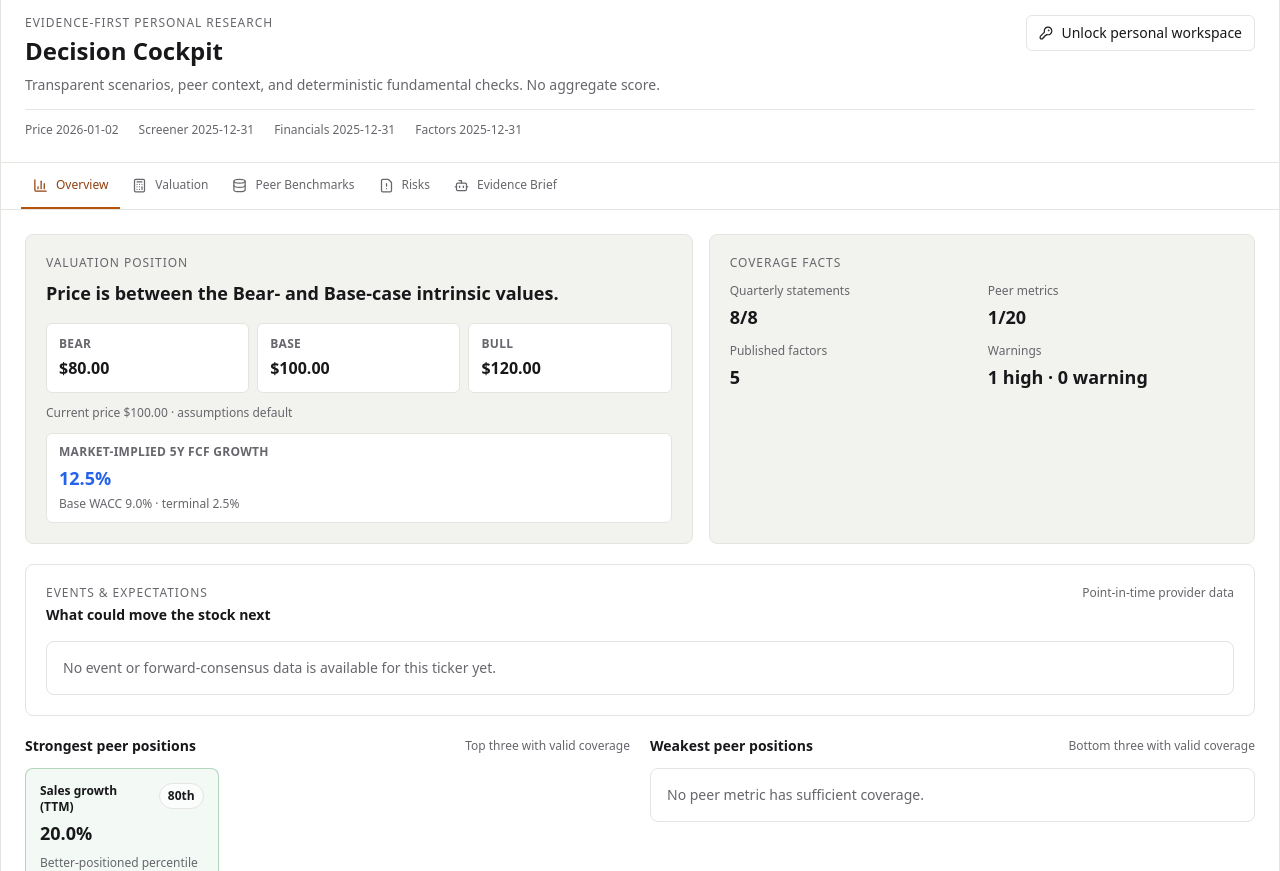
Test: DecisionCockpit › pauses the evidence brief while calculated scenarios are unsaved
Click the button "Valuation" at [170, 186], box top-left (120, 163), bottom-right (220, 209)
(page scrolled)
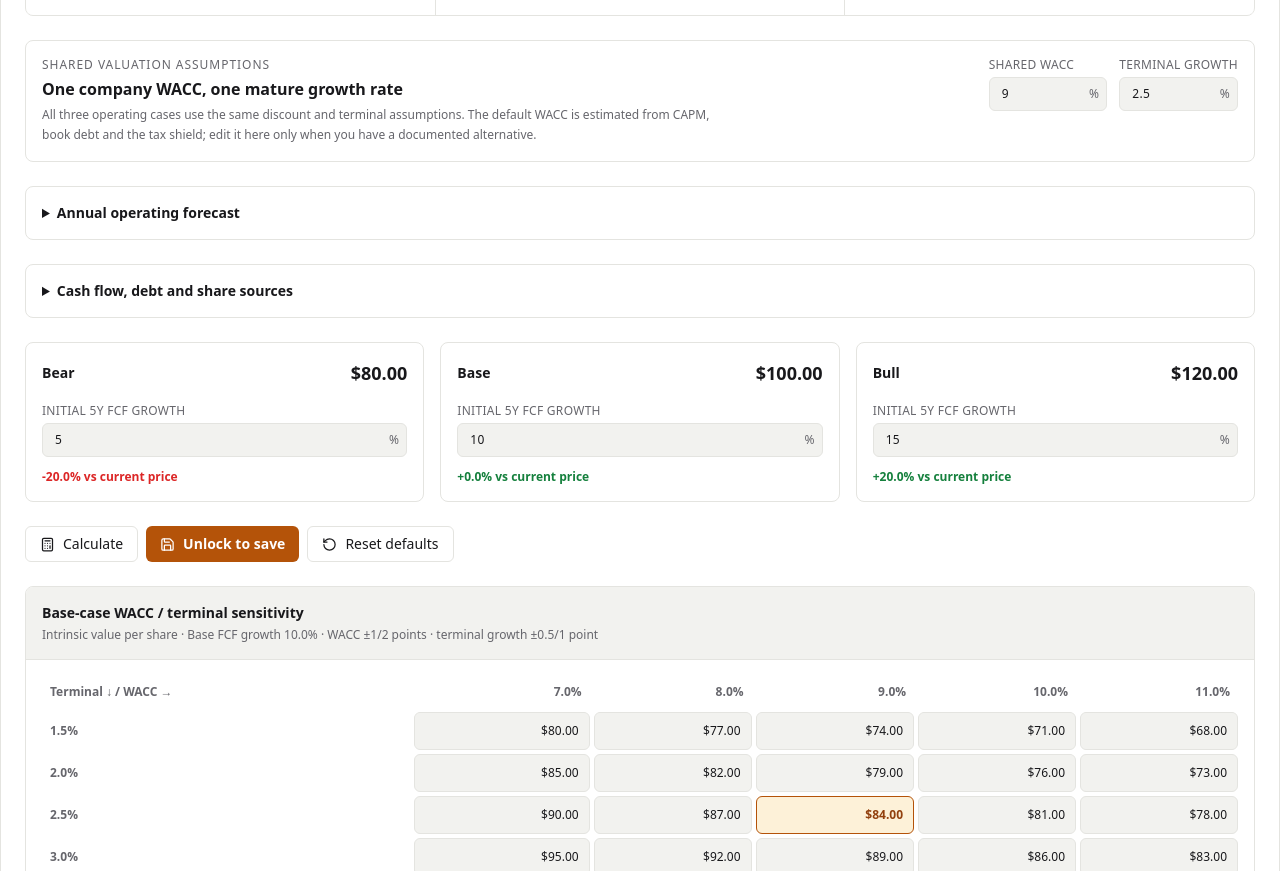
Replace the text in the number field named "bear FCF growth" with "6" at [225, 440], box top-left (42, 423), bottom-right (407, 457)
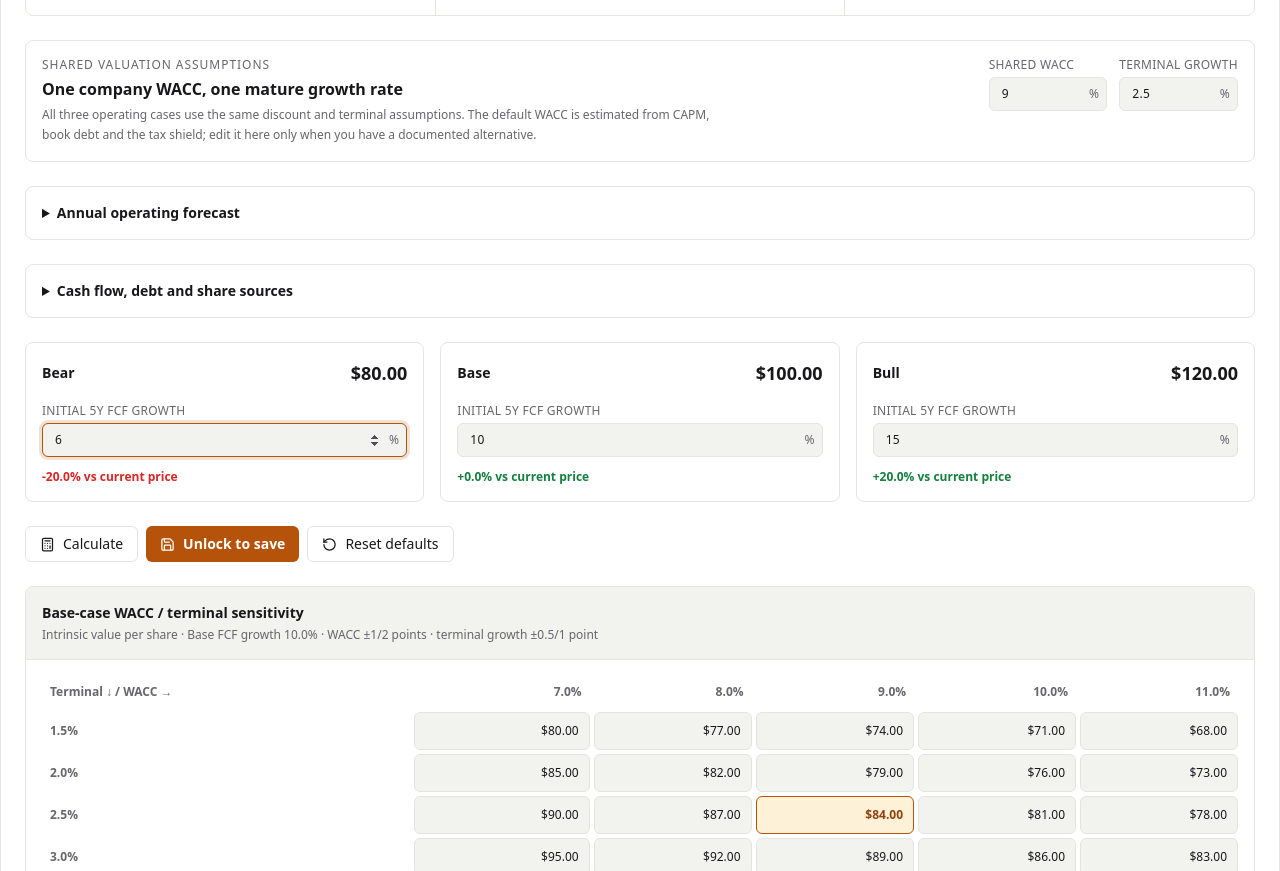
Click the button "Calculate" at [82, 544], box top-left (25, 526), bottom-right (138, 562)
(page scrolled)
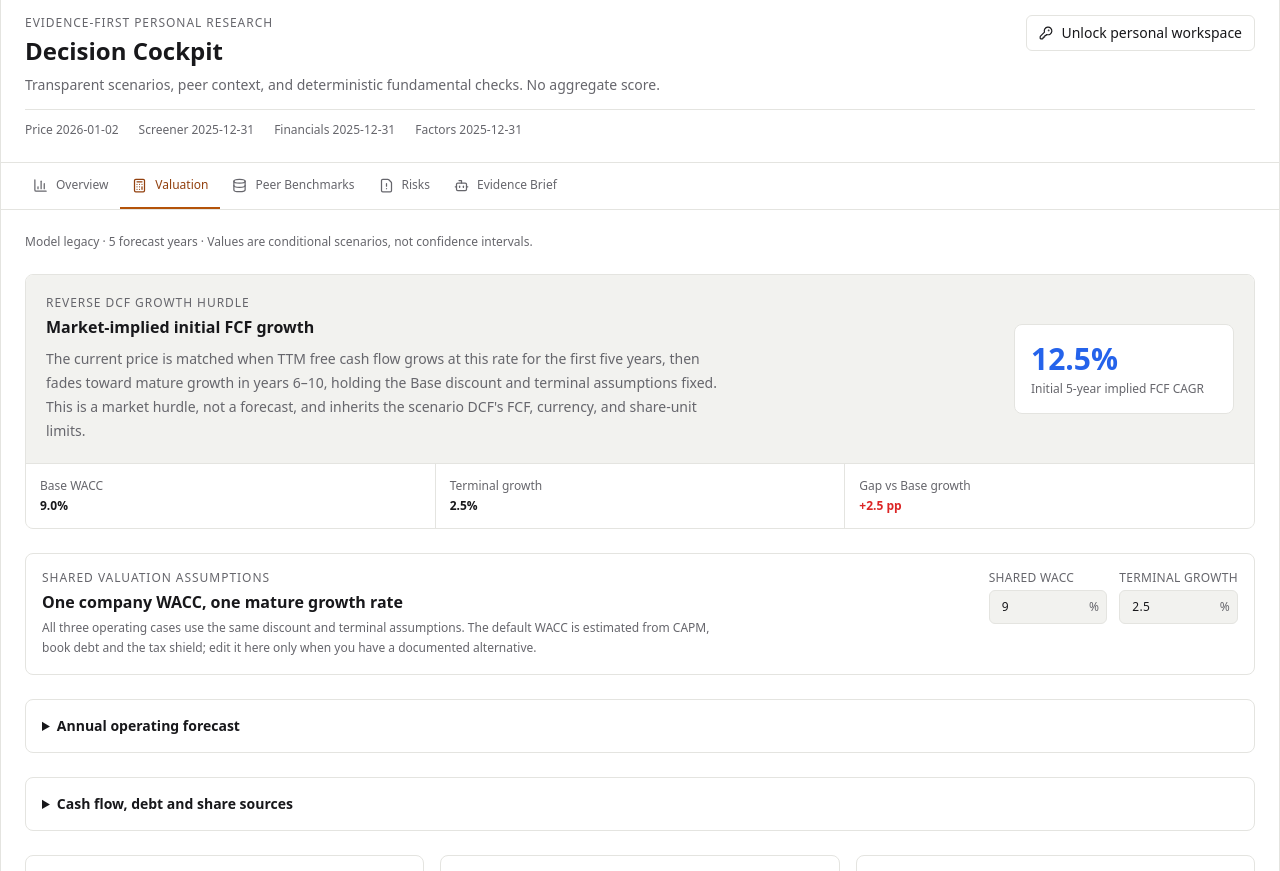
Click the button "Evidence Brief" at [505, 186], box top-left (442, 163), bottom-right (569, 209)
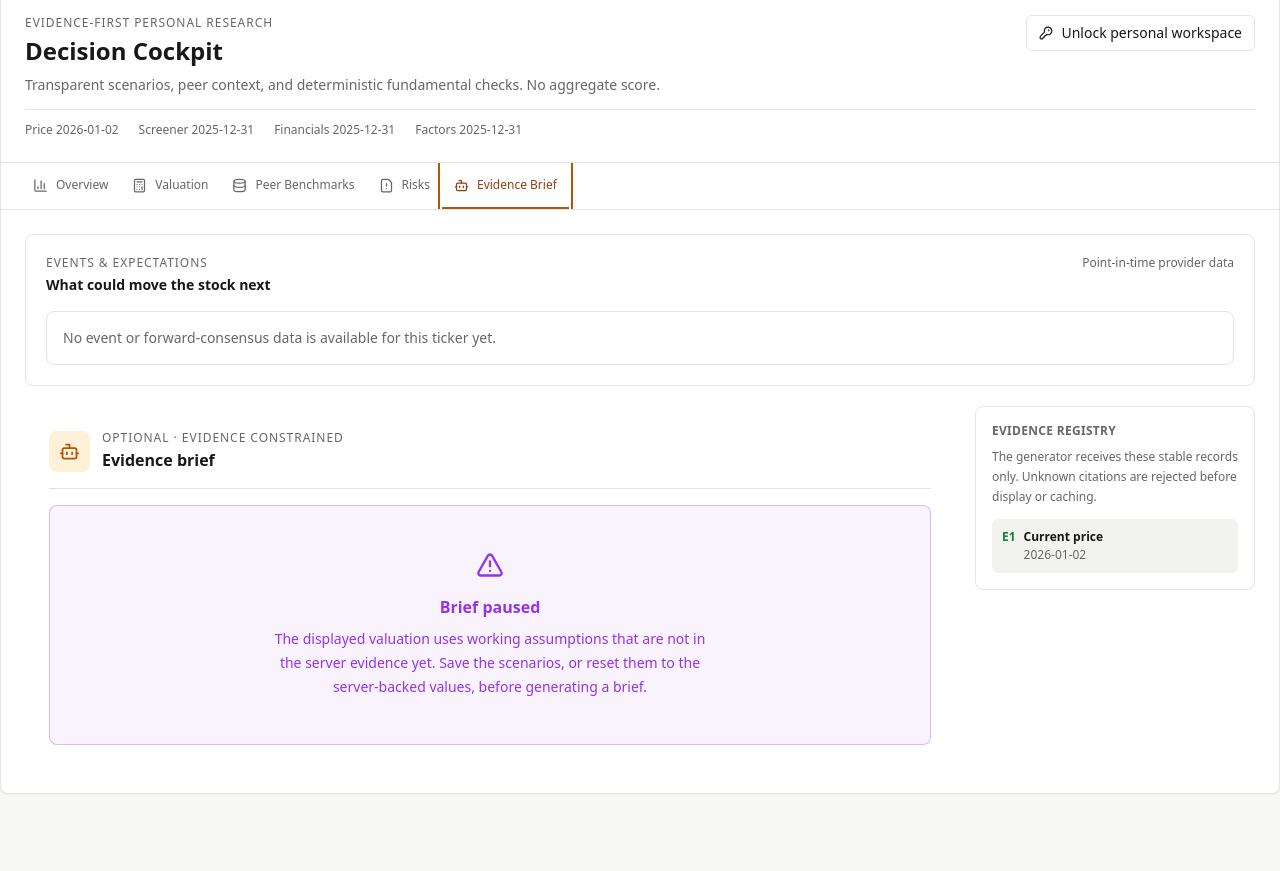
Now the message shows "Brief paused", box top-left (440, 596), bottom-right (540, 618)
Now the text "working assumptions that are not in the server evidence" is shown, box top-left (275, 629), bottom-right (705, 696)
